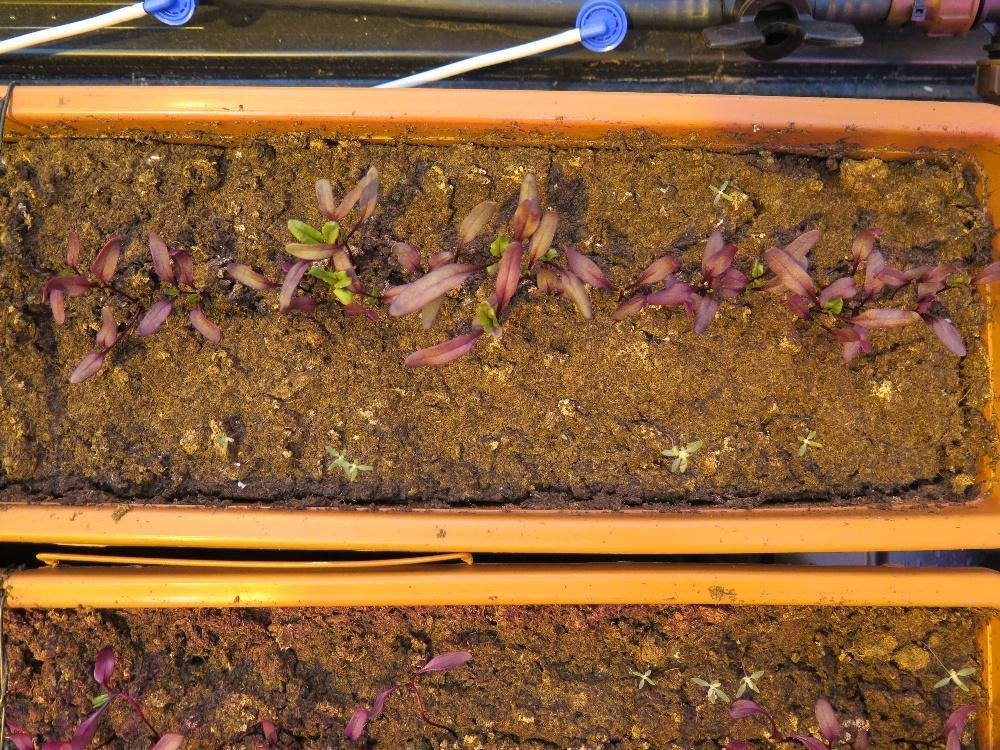weed: (931, 664, 976, 694), (688, 673, 729, 705), (734, 667, 763, 698), (794, 427, 823, 455), (211, 423, 236, 455), (707, 176, 733, 205), (630, 666, 655, 691)
